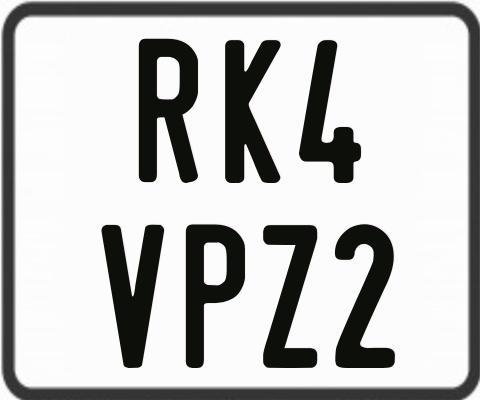2: (333, 224, 396, 374)
4: (298, 40, 365, 188)
K: (224, 38, 284, 185)
P: (184, 221, 245, 366)
R: (139, 39, 203, 185)
V: (100, 223, 162, 368)
Z: (262, 222, 319, 367)
